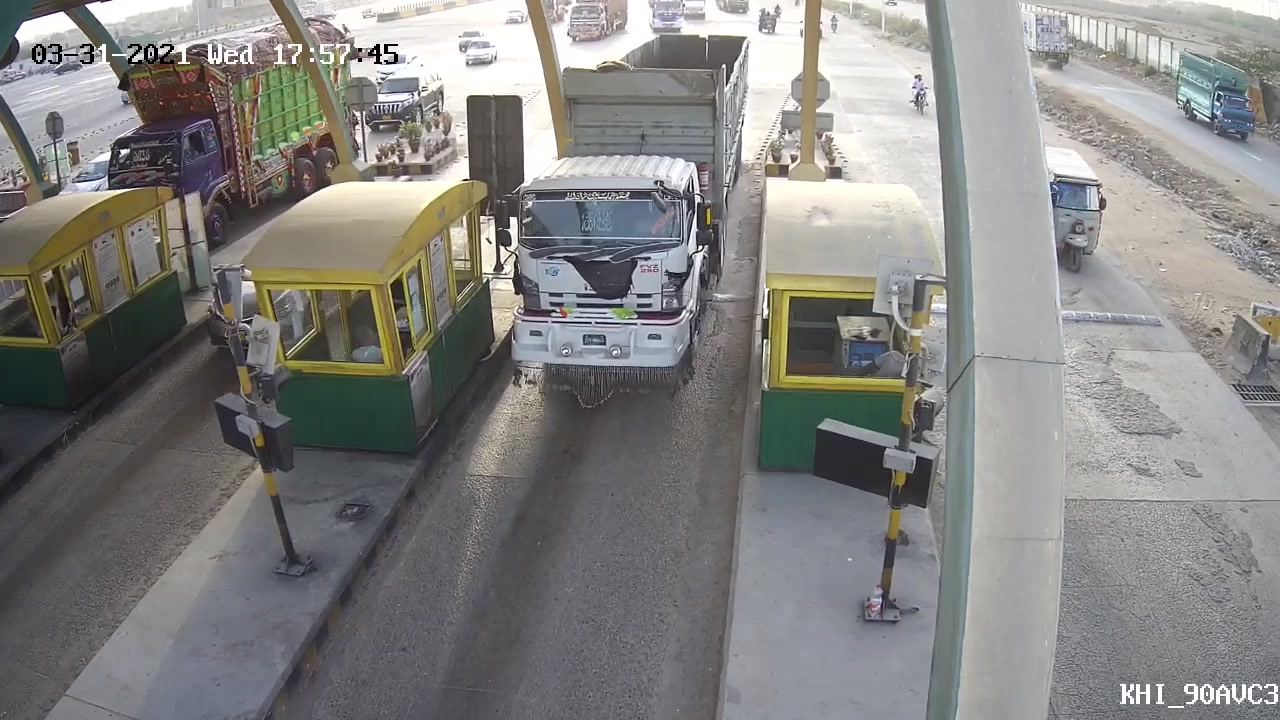F6: (497, 26, 755, 395)
